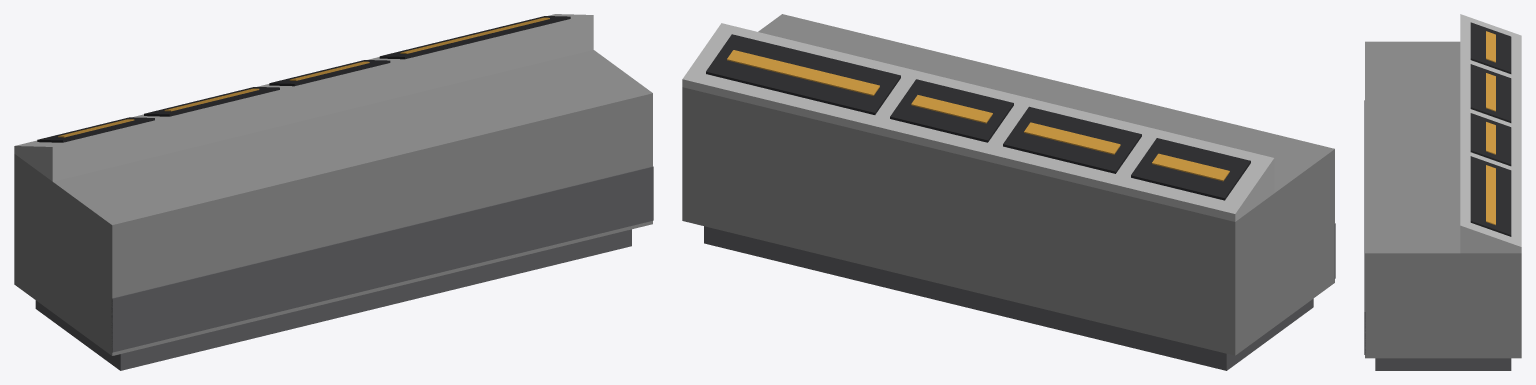
File: vge_station_console.obj
The picture shows the model from 3 angles, left to right: view 1: azimuth 30°, elevation 25°; view 2: azimuth 150°, elevation 25°; view 3: azimuth 270°, elevation 25°; orthographic projection. The views are drawn at different scales.
Parts seen in each view (by area): view 1: vge_station_console_1, vge_station_console_2, vge_station_console_3, vge_station_console_0, vge_station_console_10, vge_station_console_6, vge_station_console_8, vge_station_console_4, vge_station_console_11; view 2: vge_station_console_1, vge_station_console_3, vge_station_console_0, vge_station_console_10, vge_station_console_6, vge_station_console_8, vge_station_console_4, vge_station_console_11, vge_station_console_7, vge_station_console_9, vge_station_console_5; view 3: vge_station_console_1, vge_station_console_3, vge_station_console_10, vge_station_console_0, vge_station_console_6, vge_station_console_8, vge_station_console_4, vge_station_console_11, vge_station_console_7, vge_station_console_9, vge_station_console_2, vge_station_console_5.
Boxes of the visible parts, <box> form: vge_station_console_1: <box>14,49,652,355</box>; vge_station_console_2: <box>111,166,653,352</box>; vge_station_console_3: <box>14,14,593,181</box>; vge_station_console_0: <box>35,229,631,370</box>; vge_station_console_10: <box>379,16,570,59</box>; vge_station_console_6: <box>144,87,279,116</box>; vge_station_console_8: <box>269,60,390,86</box>; vge_station_console_4: <box>37,117,154,142</box>; vge_station_console_11: <box>400,17,549,53</box>; vge_station_console_1: <box>682,14,1334,355</box>; vge_station_console_3: <box>682,23,1274,221</box>; vge_station_console_0: <box>704,226,1313,370</box>; vge_station_console_10: <box>706,34,900,114</box>; vge_station_console_6: <box>1003,106,1141,173</box>; vge_station_console_8: <box>890,79,1013,142</box>; vge_station_console_4: <box>1131,138,1250,200</box>; vge_station_console_11: <box>727,50,879,95</box>; vge_station_console_7: <box>1024,122,1120,154</box>; vge_station_console_9: <box>911,95,992,123</box>; vge_station_console_5: <box>1152,153,1229,181</box>; vge_station_console_1: <box>1365,41,1521,358</box>; vge_station_console_3: <box>1460,14,1521,253</box>; vge_station_console_10: <box>1470,156,1511,236</box>; vge_station_console_0: <box>1375,358,1511,370</box>; vge_station_console_6: <box>1470,64,1511,122</box>; vge_station_console_8: <box>1470,113,1511,166</box>; vge_station_console_4: <box>1470,22,1511,73</box>; vge_station_console_11: <box>1486,165,1495,225</box>; vge_station_console_7: <box>1486,73,1495,111</box>; vge_station_console_9: <box>1486,122,1495,154</box>; vge_station_console_2: <box>1364,100,1365,354</box>; vge_station_console_5: <box>1486,31,1495,62</box>.
Size of the model in its own units: 2.94 by 0.98 by 0.924.
